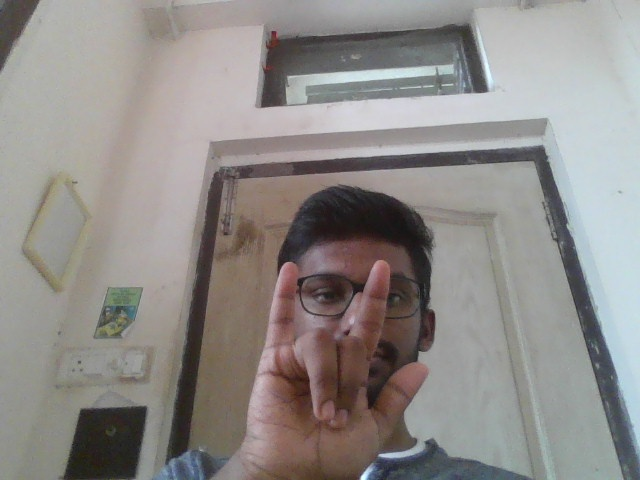I Love You: (241, 252, 432, 480)
